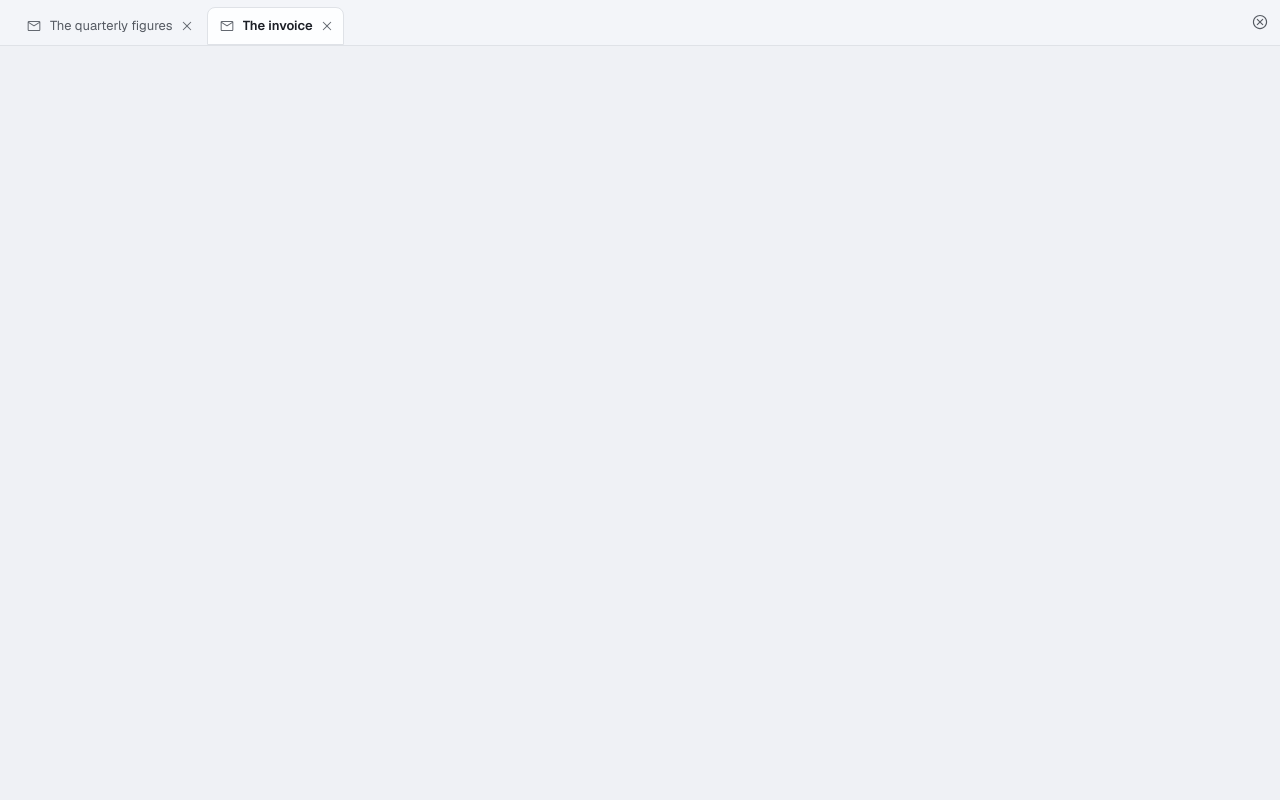
Scenario: TabStrip › asks before closing everything, and closes nothing when the question is refused
Click the button named "Close everything that is open" at [1260, 22], box [1246,8,1274,36]
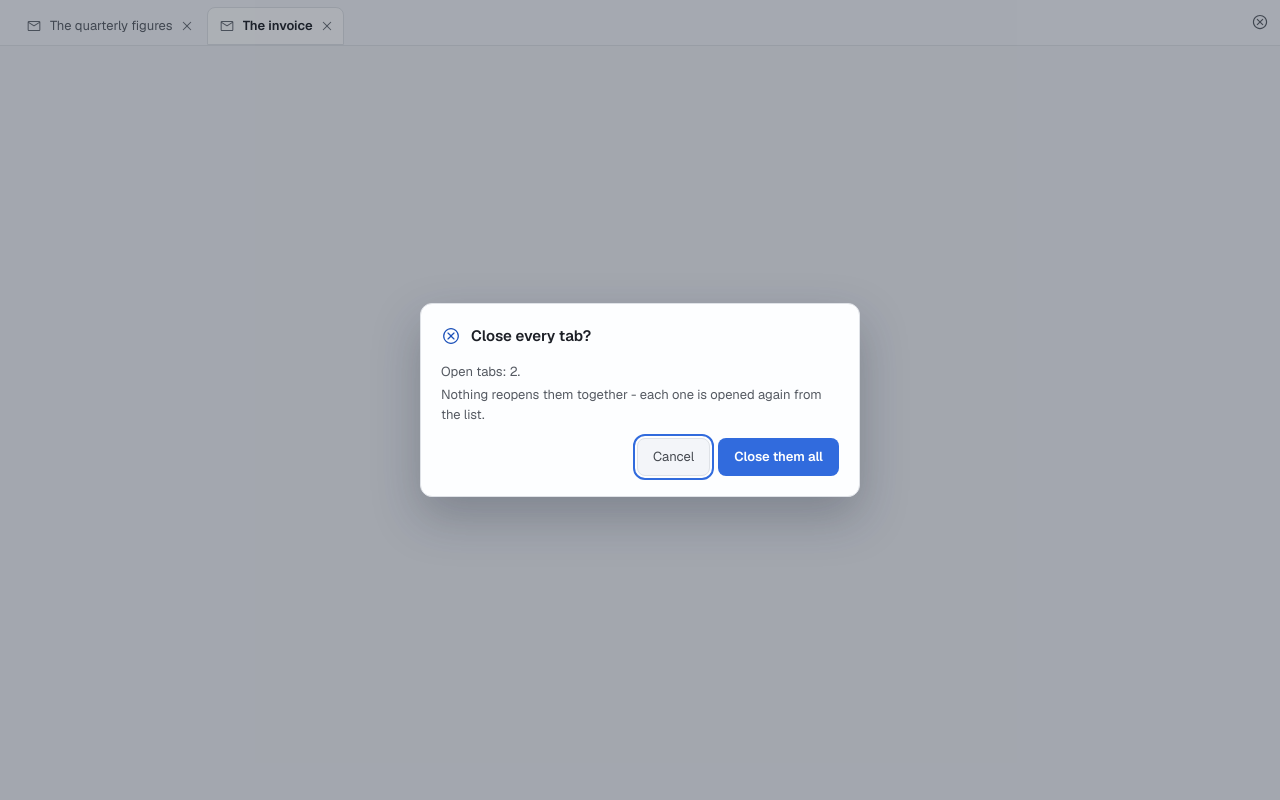
Expected: the heading "Close every tab?" is shown, [441,326,591,346]
Expected: the text "Open tabs: 2." is shown, [441,363,520,380]
Click the button "Cancel" at [674, 457], box [637,438,710,476]
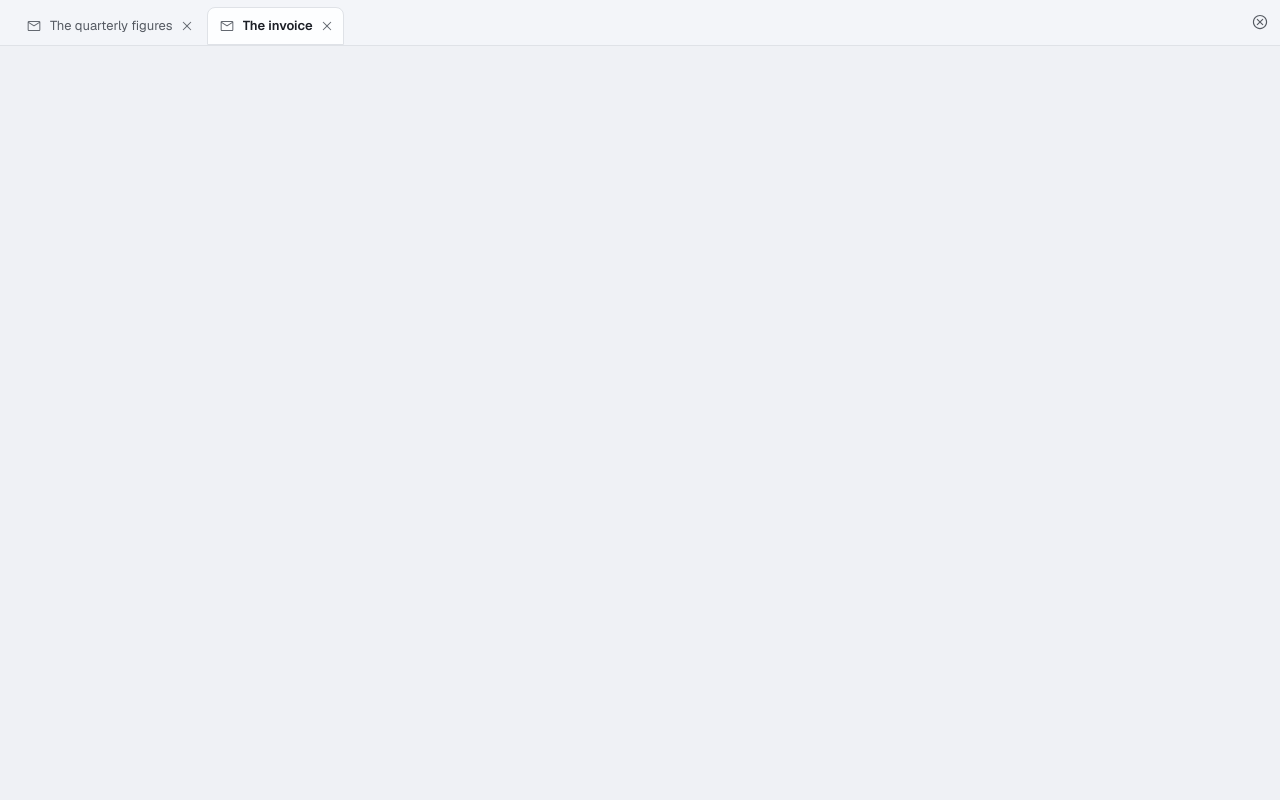
Expected: the heading "Close every tab?" is gone
